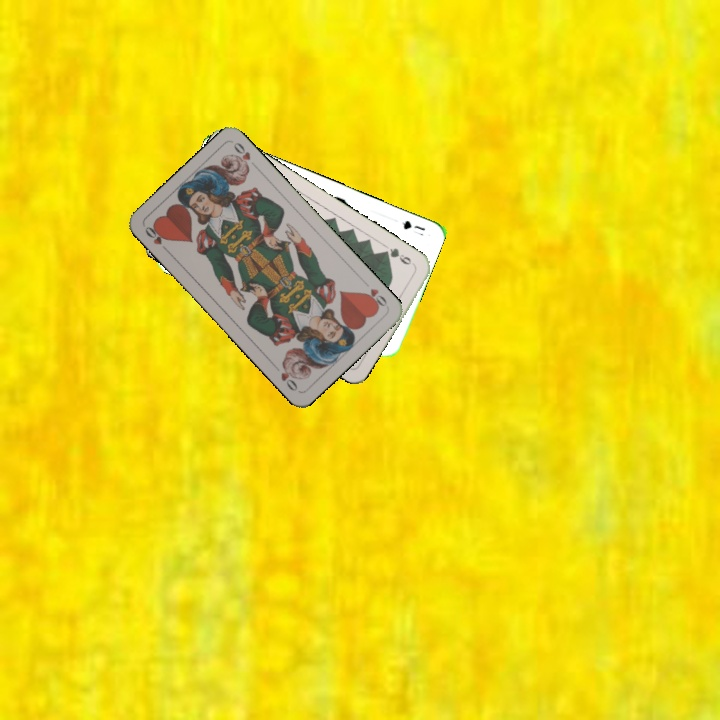G9: (379, 244, 418, 269)
GU: (398, 216, 428, 239)
HO: (141, 221, 172, 255), (359, 284, 390, 311)
